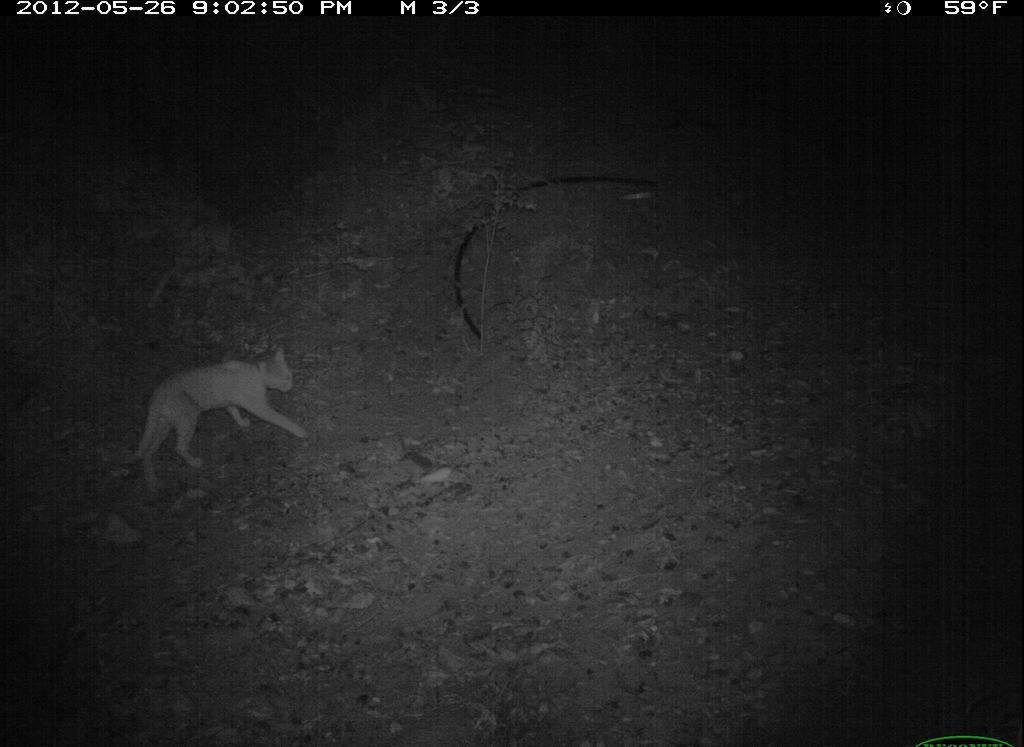cat: (120, 341, 326, 498)
